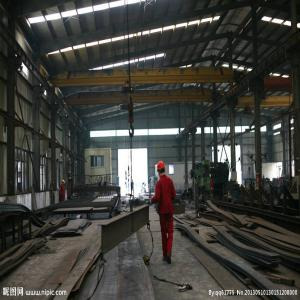red: (157, 161, 167, 178)
yellow: (63, 180, 66, 186)
